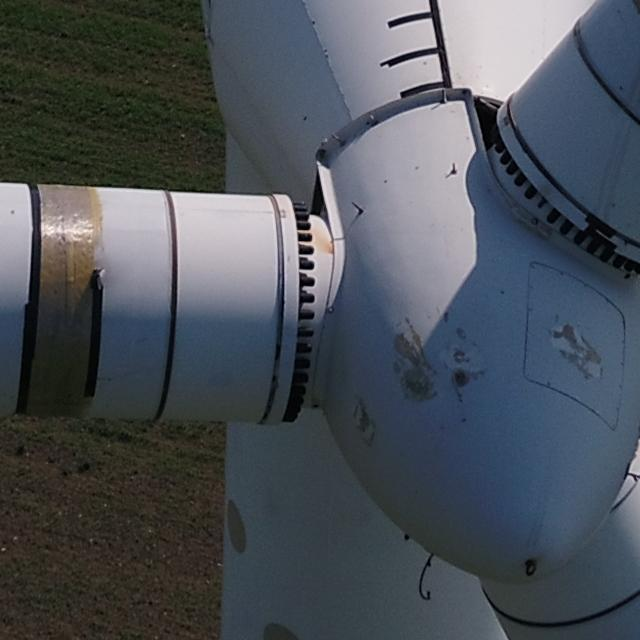damage: (387, 319, 435, 403), (549, 321, 606, 380), (349, 398, 383, 447), (452, 368, 471, 391), (454, 323, 469, 344)
